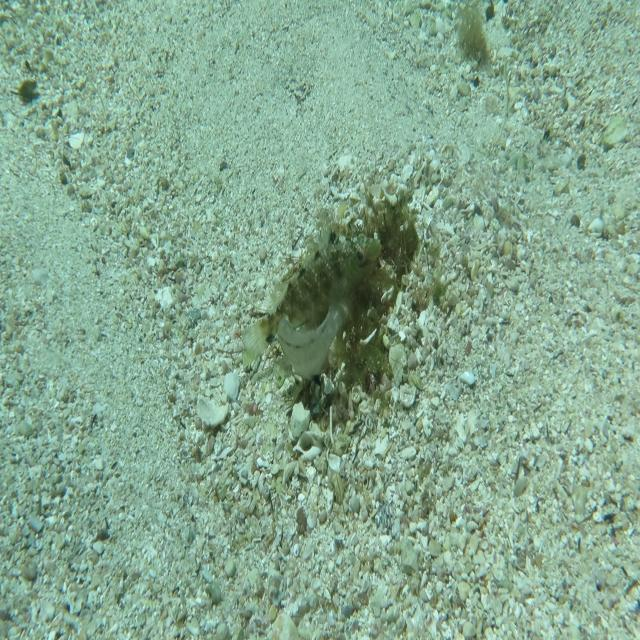FAN: (238, 208, 383, 370)
core_nest: (366, 191, 413, 247)
female: (277, 277, 357, 383)
nest: (278, 149, 438, 415)
